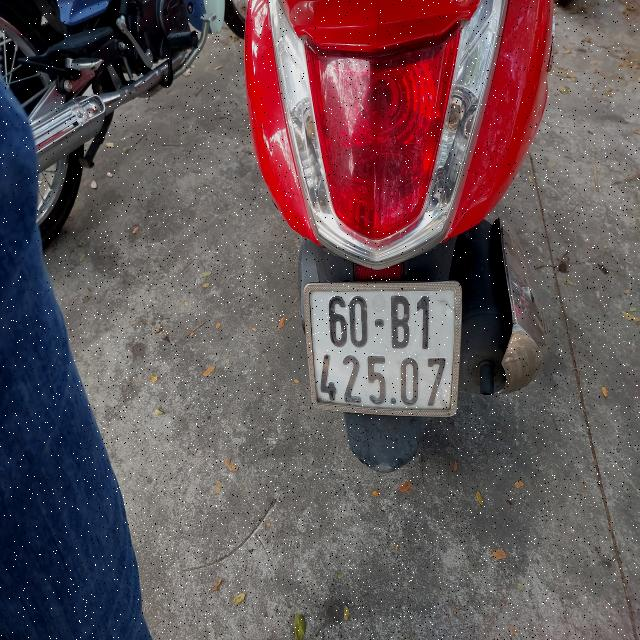0: (348, 294, 370, 349), (398, 355, 420, 406)
1: (416, 294, 433, 352)
2: (342, 354, 362, 405)
4: (319, 352, 338, 404)
5: (366, 352, 388, 408)
6: (328, 295, 347, 344)
7: (425, 354, 446, 406)
B: (389, 294, 412, 352)
